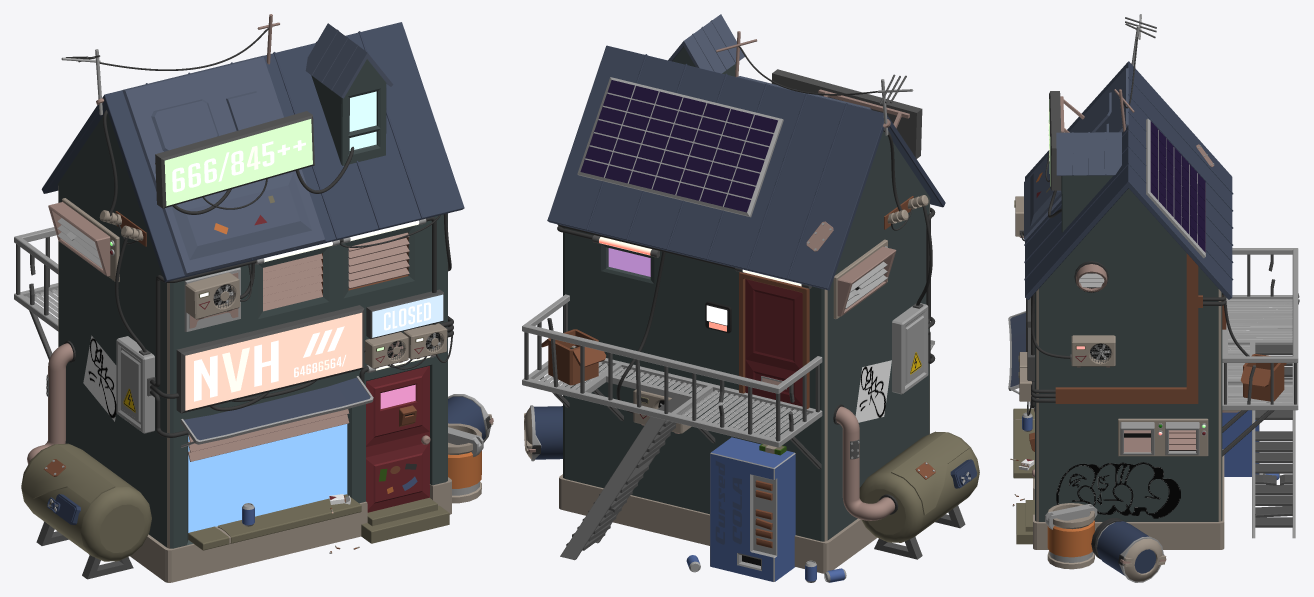
File: building.fbx
The picture shows the model from 3 angles, left to right: view 1: azimuth 30°, elevation 25°; view 2: azimuth 150°, elevation 25°; view 3: azimuth 270°, elevation 25°; orthographic projection. The views are drawn at different scales.
Parts seen in each view (by area): view 1: Cube.021_648, Cube.027_653, Cube.024_651, Cube.118_666, Cube.122_670, Cube.030_655, Cube.032_657, Cube.066_832, Cube.034_659, Cube.128_700, Cylinder.006_676, Naves.002_697 (+26 smaller); view 2: Cube.021_648, Cube.027_653, Cube.024_651, Cube.125_673, Cube.127_675, Cube.128_700, Cube.009_701, Cube.008_642, Cylinder.006_676, Cube.029_654, Cube.012_643, Cube.016_645 (+21 smaller); view 3: Cube.027_653, Cube.024_651, Cube.021_648, Cube.029_654, Cube.125_673, Cube.013_826, Cube.037_662, Cube.012_643, Cylinder.088_694, Props.001_698, Cube.128_700, Cube.006_825 (+18 smaller).
Boxes of the visible parts, bbox=[...] form: Cube.021_648: bbox=[41, 22, 464, 282]; Cube.027_653: bbox=[58, 186, 447, 409]; Cube.024_651: bbox=[58, 329, 449, 548]; Cube.118_666: bbox=[188, 424, 347, 532]; Cube.122_670: bbox=[151, 91, 311, 259]; Cube.030_655: bbox=[122, 55, 325, 276]; Cube.032_657: bbox=[176, 305, 364, 413]; Cube.066_832: bbox=[155, 111, 314, 208]; Cube.034_659: bbox=[366, 366, 429, 512]; Cube.128_700: bbox=[130, 477, 451, 582]; Cylinder.006_676: bbox=[21, 443, 151, 561]; Naves.002_697: bbox=[180, 376, 373, 447]; Cube.021_648: bbox=[547, 45, 945, 290]; Cube.027_653: bbox=[563, 200, 929, 410]; Cube.024_651: bbox=[563, 361, 929, 541]; Cube.125_673: bbox=[577, 77, 783, 217]; Cube.127_675: bbox=[710, 437, 795, 581]; Cube.128_700: bbox=[559, 474, 876, 573]; Cube.009_701: bbox=[745, 279, 802, 406]; Cube.008_642: bbox=[522, 358, 822, 447]; Cylinder.006_676: bbox=[859, 431, 979, 542]; Cube.029_654: bbox=[837, 131, 930, 266]; Cube.012_643: bbox=[534, 362, 811, 437]; Cube.016_645: bbox=[522, 294, 822, 393]; Cube.027_653: bbox=[1035, 288, 1222, 406]; Cube.024_651: bbox=[1016, 405, 1222, 544]; Cube.021_648: bbox=[1024, 61, 1233, 299]; Cube.029_654: bbox=[1040, 188, 1217, 287]; Cube.125_673: bbox=[1146, 118, 1205, 258]; Cube.013_826: bbox=[1255, 345, 1292, 527]; Cube.037_662: bbox=[1055, 253, 1202, 403]; Cube.012_643: bbox=[1228, 299, 1292, 402]; Cylinder.088_694: bbox=[1091, 518, 1166, 582]; Props.001_698: bbox=[1045, 503, 1097, 569]; Cube.128_700: bbox=[1033, 449, 1224, 549]; Cube.006_825: bbox=[1056, 132, 1121, 175].
Bounding box in the file's own units: 592 × 621 × 396.
Materials: 40 (4 with a texture image).
